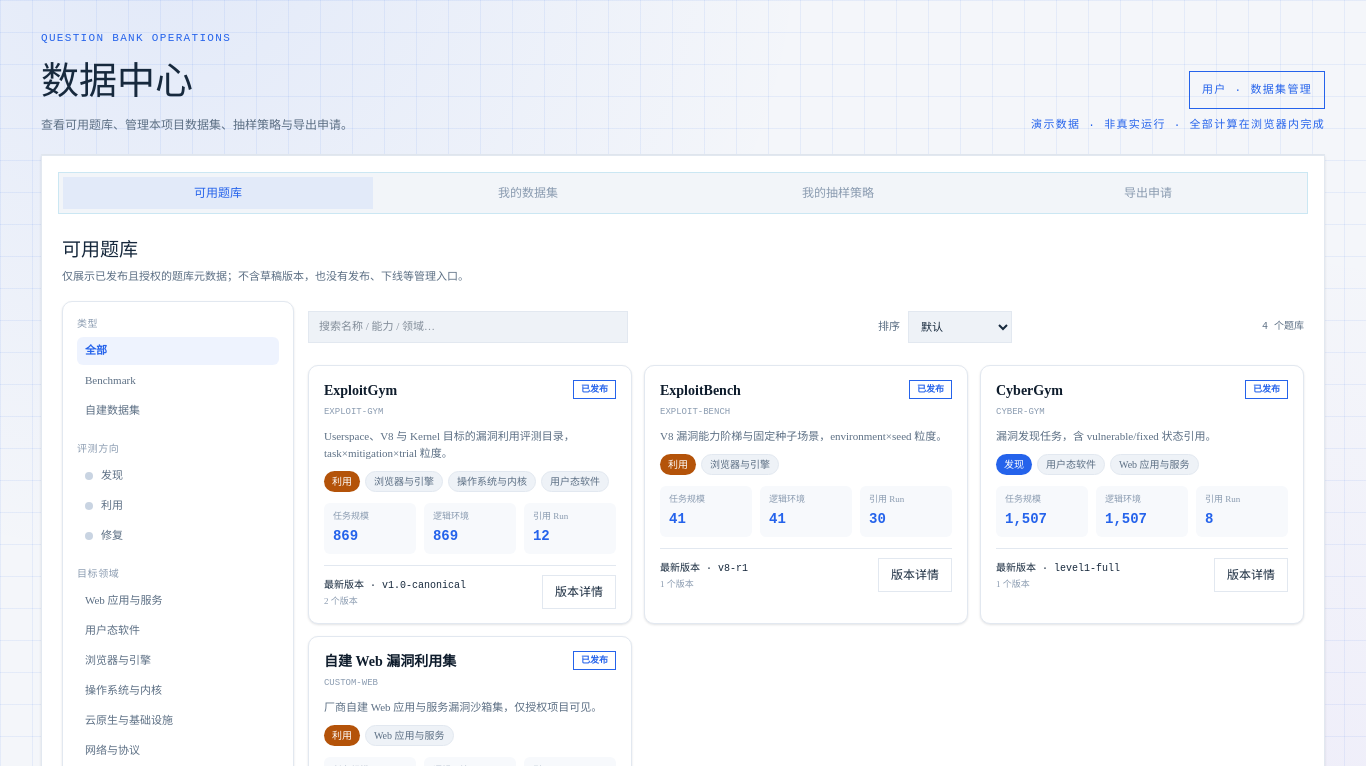
it: DataCenter question bank › shows export requests only (no import pipeline or approval powers) to external users
Click the tab "导出申请": click(1148, 192) [993,176,1303,208]
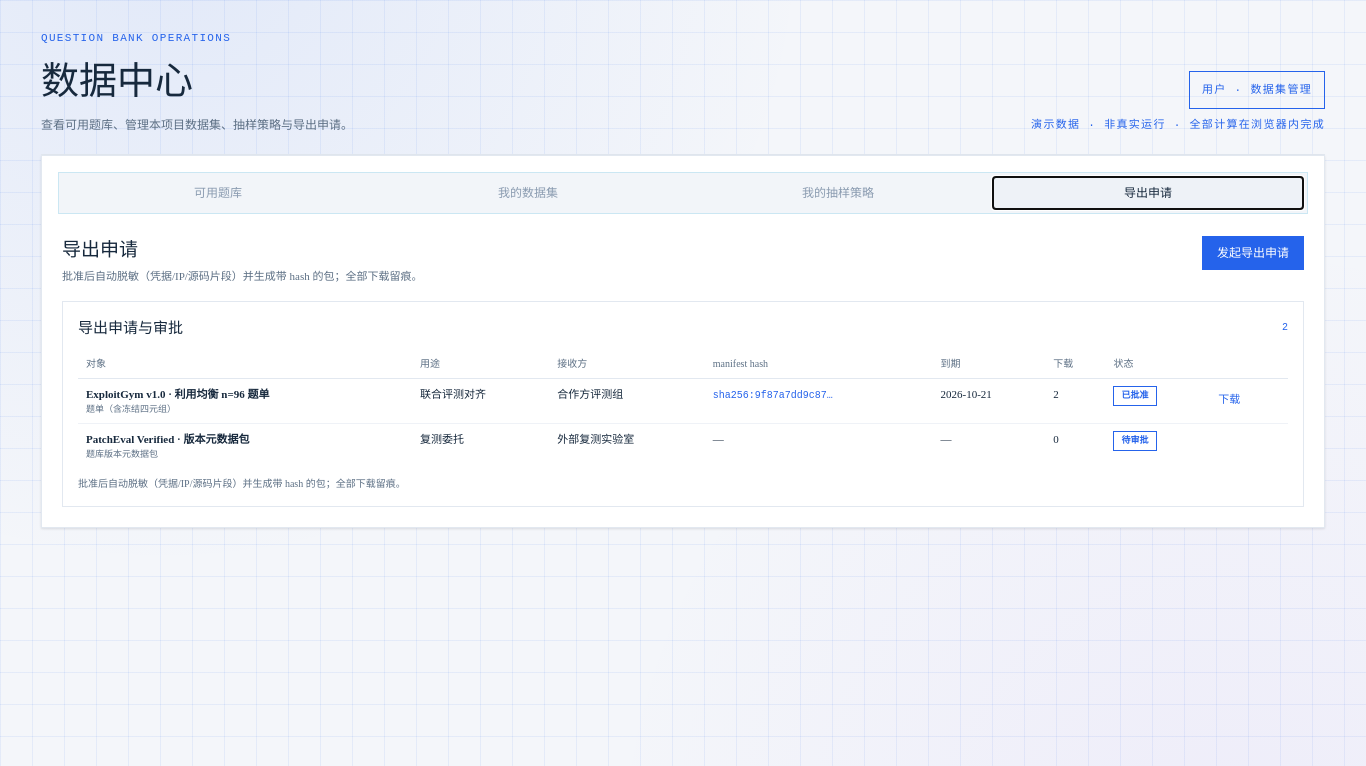
Check: the text "ExploitGym v1.0 · 利用均衡 n=96 题单" is shown, box [86,388,270,400]
